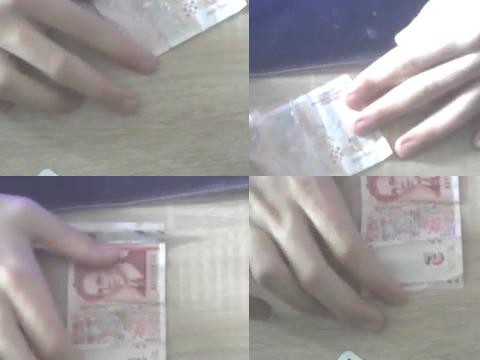5leva: (336, 176, 466, 292), (249, 75, 394, 176), (65, 237, 166, 360), (93, 0, 248, 58)
